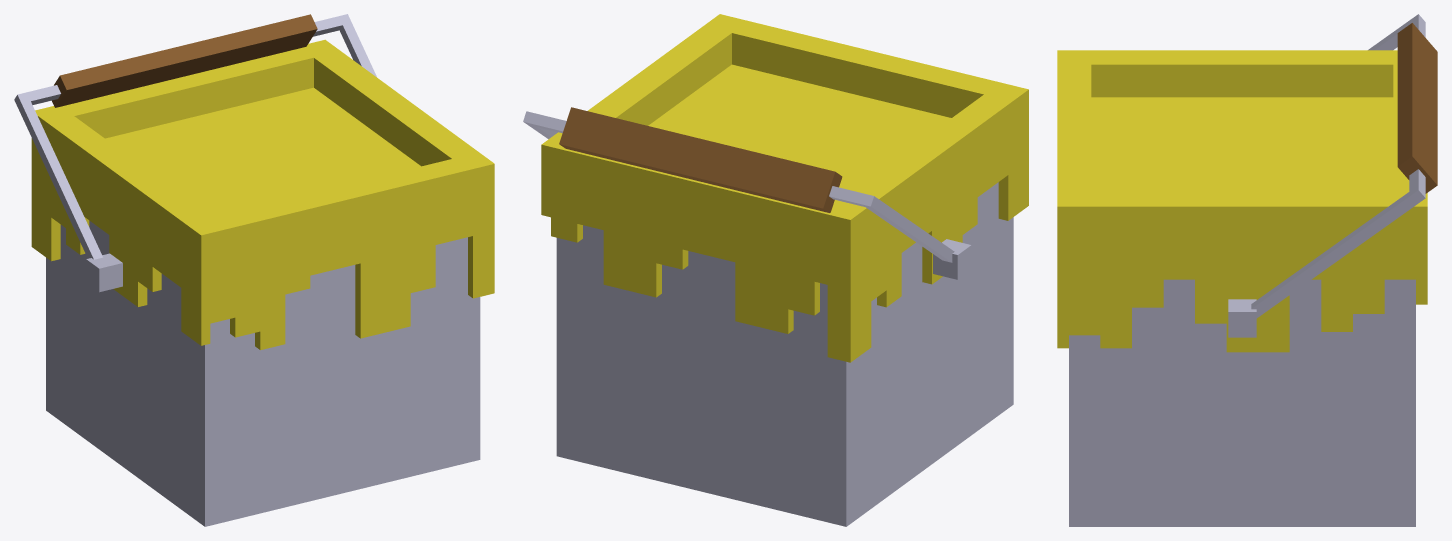
Rendered from bucket.glb.
The picture shows the model from 3 angles, left to right: view 1: azimuth 30°, elevation 25°; view 2: azimuth 150°, elevation 25°; view 3: azimuth 270°, elevation 25°; orthographic projection. The views are drawn at different scales.
Parts seen in each view (by area): view 1: Bucket, Paint; view 2: Bucket, Paint; view 3: Paint, Bucket.
Part boxes in pixels (x1,y1,x2,y2): Bucket: [14, 14, 480, 526]; Paint: [31, 39, 494, 350]; Bucket: [523, 107, 1013, 526]; Paint: [541, 14, 1028, 362]; Paint: [1057, 50, 1427, 352]; Bucket: [1069, 14, 1437, 526].
Bounding box in the file's own units: 3.72 × 3.47 × 3.29.
